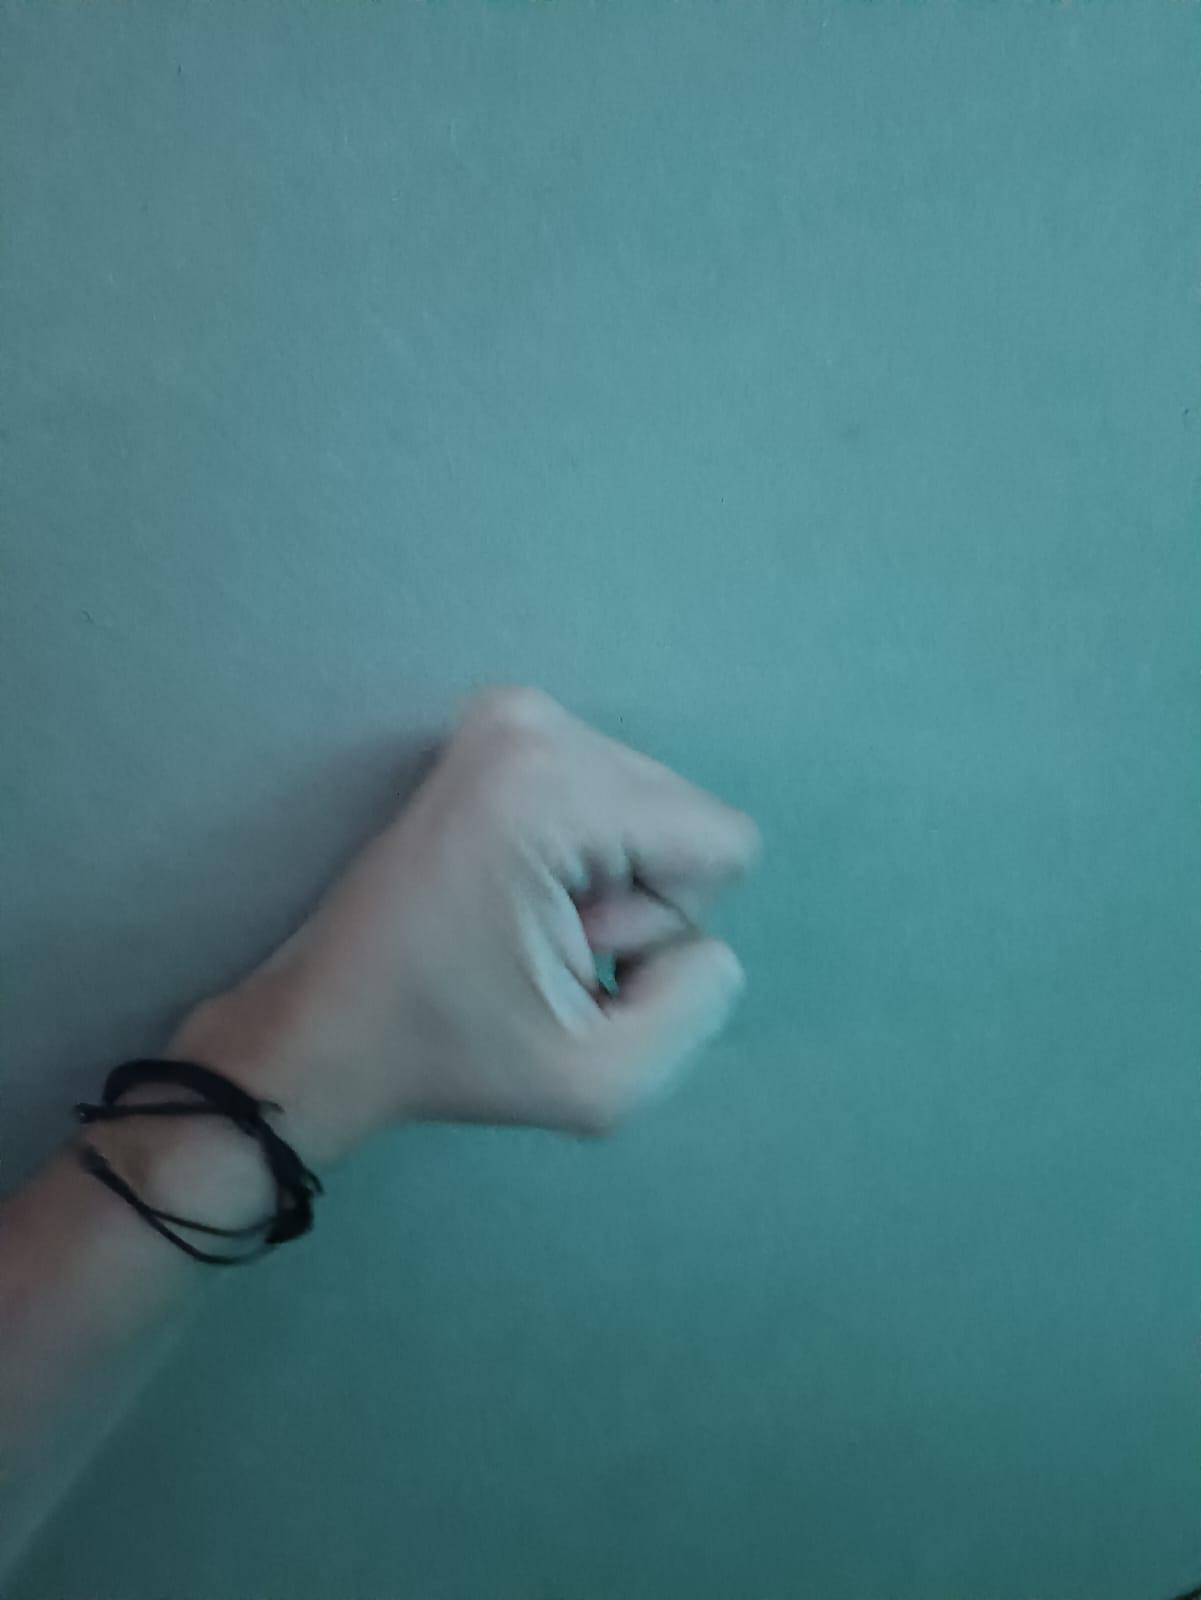Stone: (0, 670, 747, 1600)
